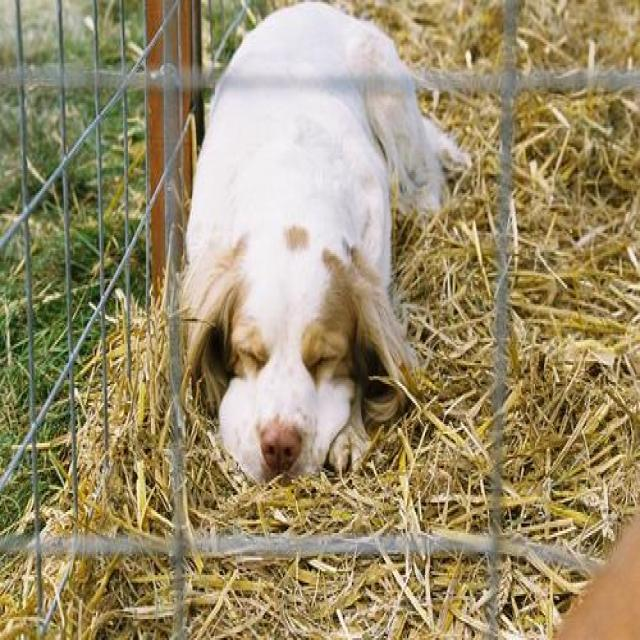relax: (171, 0, 476, 495)
